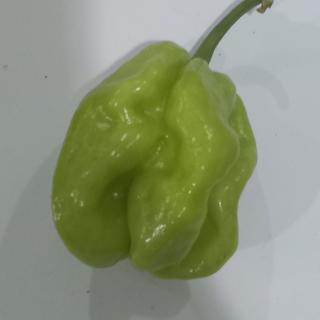Grade-A: (47, 33, 265, 280)
